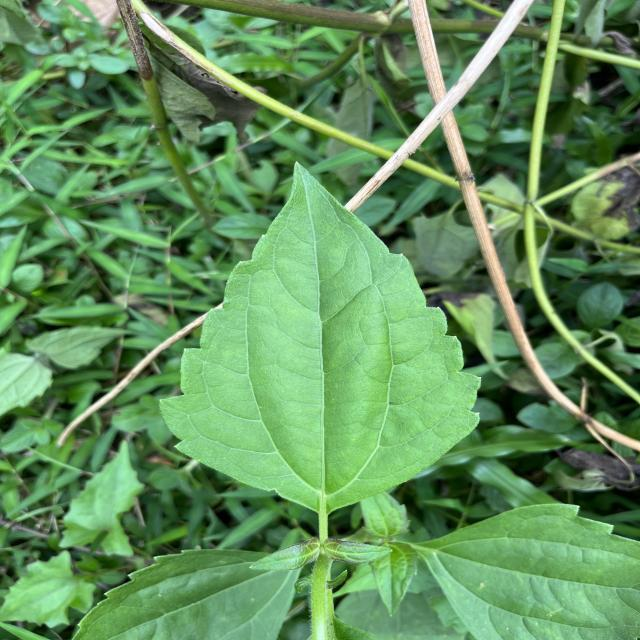Chromolaena odorata: (155, 155, 488, 515)
